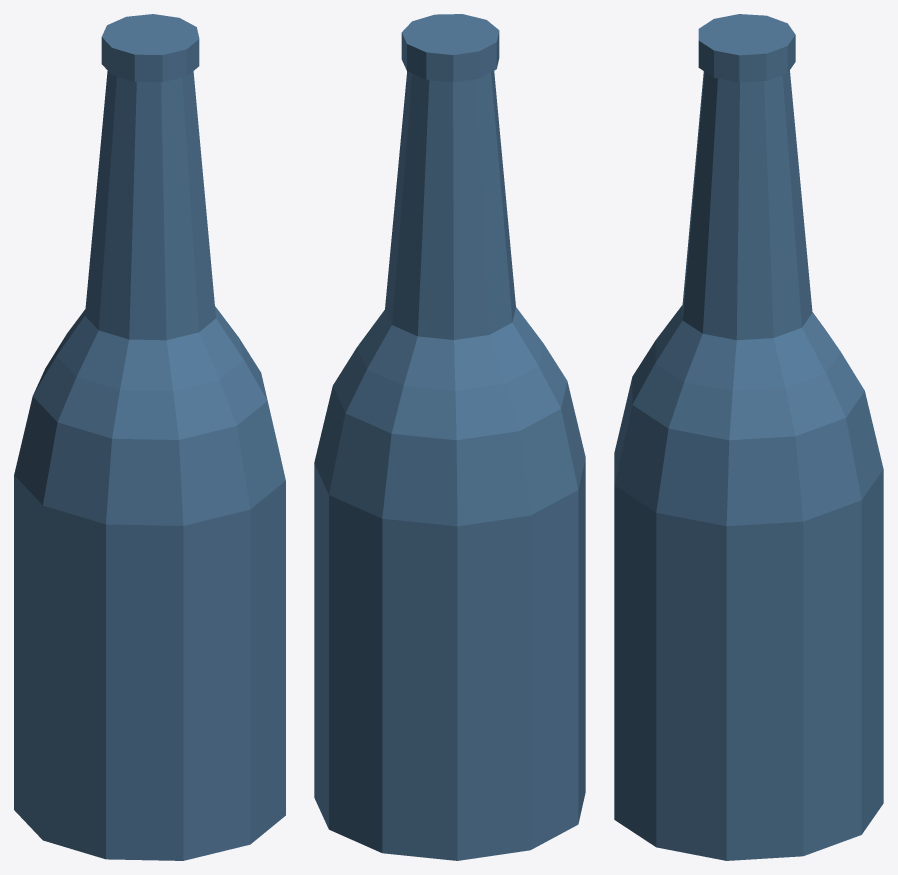
Rendered from tavern-bottle-blue.glb.
3 views of the same model, side by side, from view 1: azimuth 30°, elevation 25°; view 2: azimuth 150°, elevation 25°; view 3: azimuth 270°, elevation 25° (orthographic).
Visible parts, largest first — view 1: Object_2; view 2: Object_2; view 3: Object_2.
Boxes of the visible parts, x1,y1,x2,y2 form: Object_2: (14,14,285,860); Object_2: (314,14,585,860); Object_2: (614,14,883,860).
Bounding box in the file's own units: 1.98 × 6.18 × 1.96.
